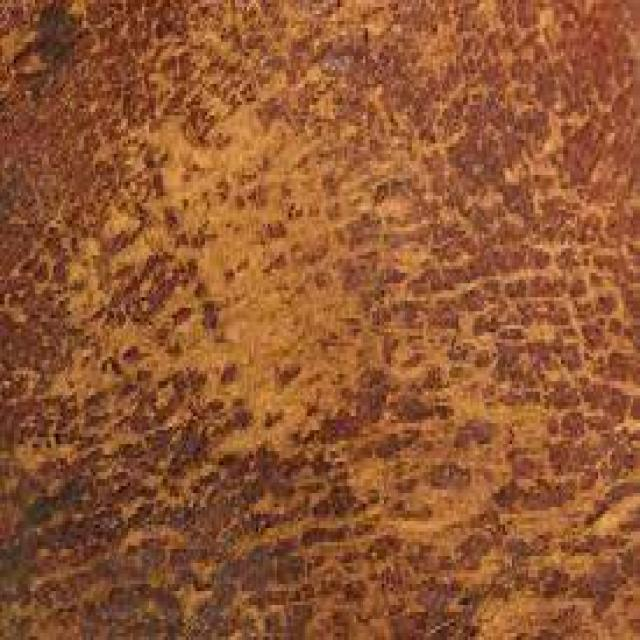Bacterial Injury: (11, 11, 109, 133)
Rotten surface: (126, 118, 532, 495)
